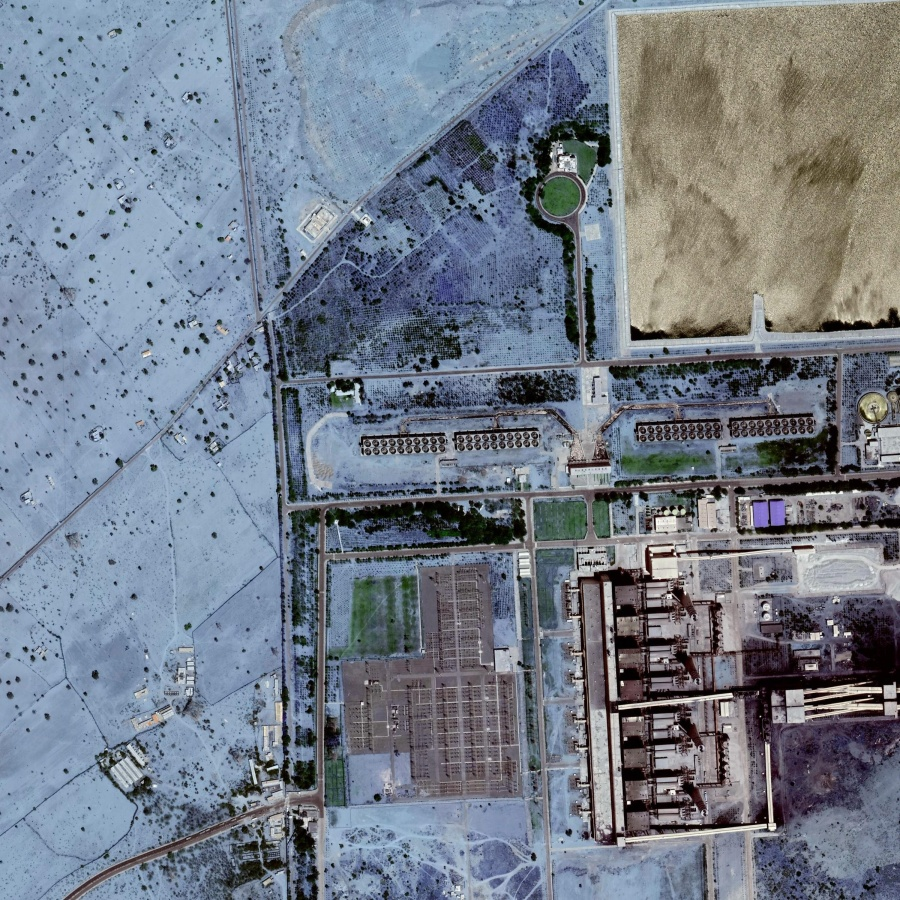PowerPlant: (573, 549, 772, 834)
